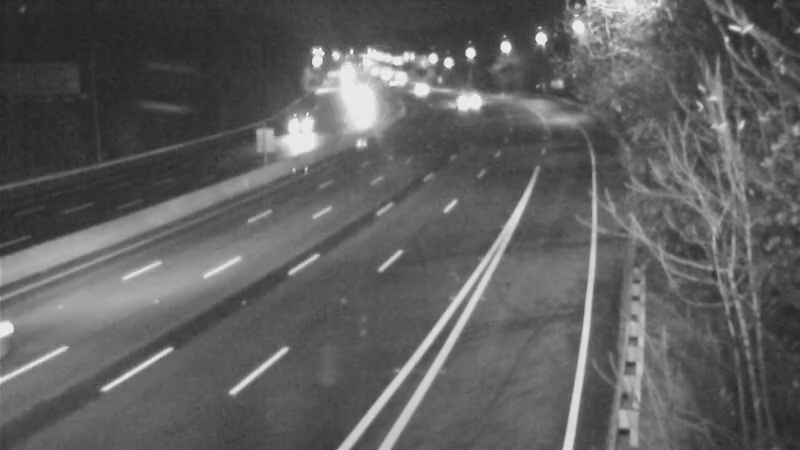vehicle: (397, 66, 447, 116), (442, 71, 492, 121), (284, 102, 334, 152), (331, 85, 381, 135)
